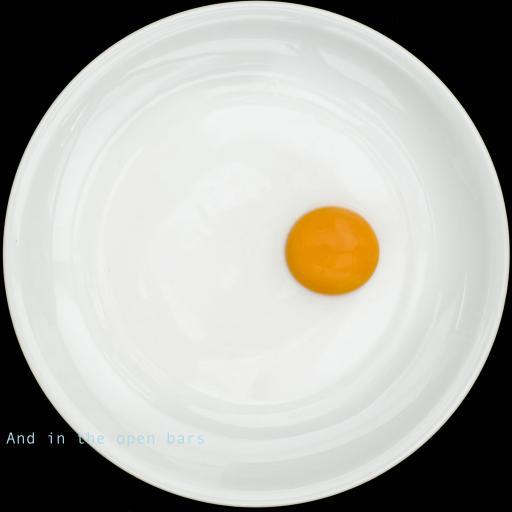Andale Mono: (6, 432, 206, 447)
